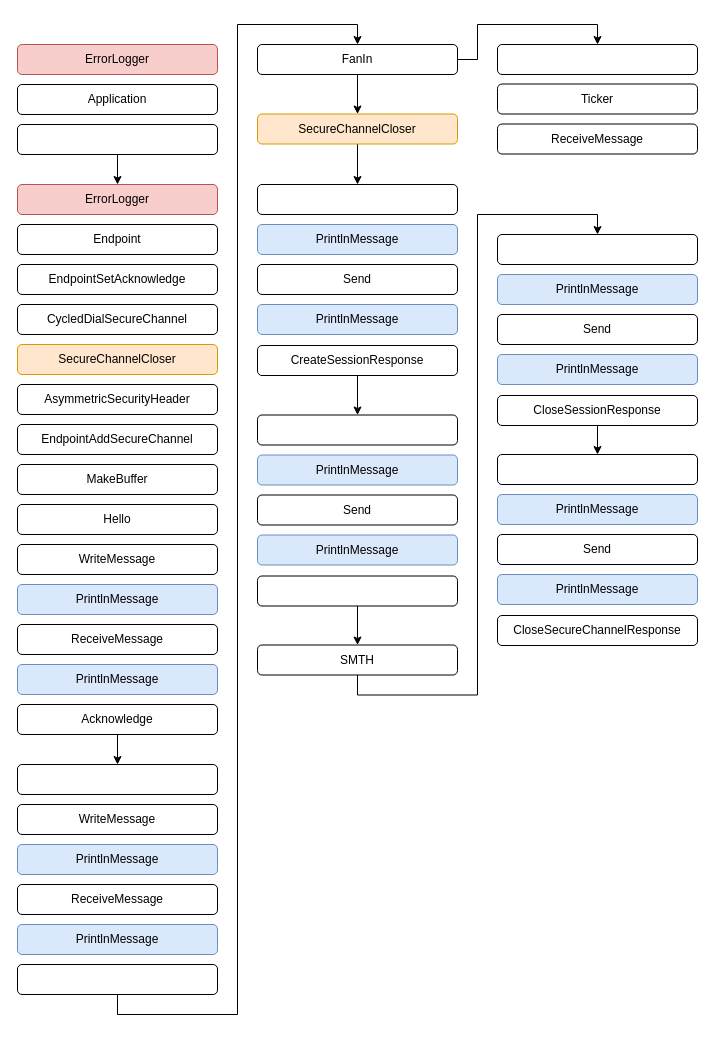
Image size: 715x1040. Some labels were removed from this diagram. Each missing label, with the centre of its shape:
ActivateSessionRequest: point (357, 429)
ActivateSessionResponse: point (357, 590)
Async: point (117, 139)
CloseSecureChannelRequest: point (597, 469)
CloseSessionRequest: point (597, 249)
CreateSessionRequest: point (357, 199)
ErrorIgnore: point (597, 59)
OpenSecureChannelRequest: point (117, 779)
OpenSecureChannelResponse: point (117, 979)
